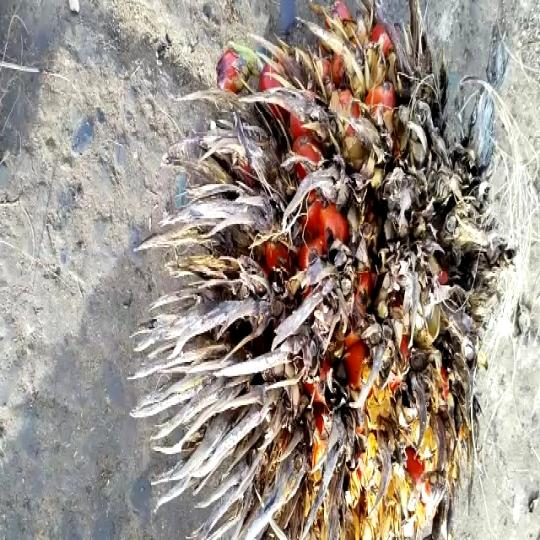terlalu masak: (154, 0, 487, 540)
